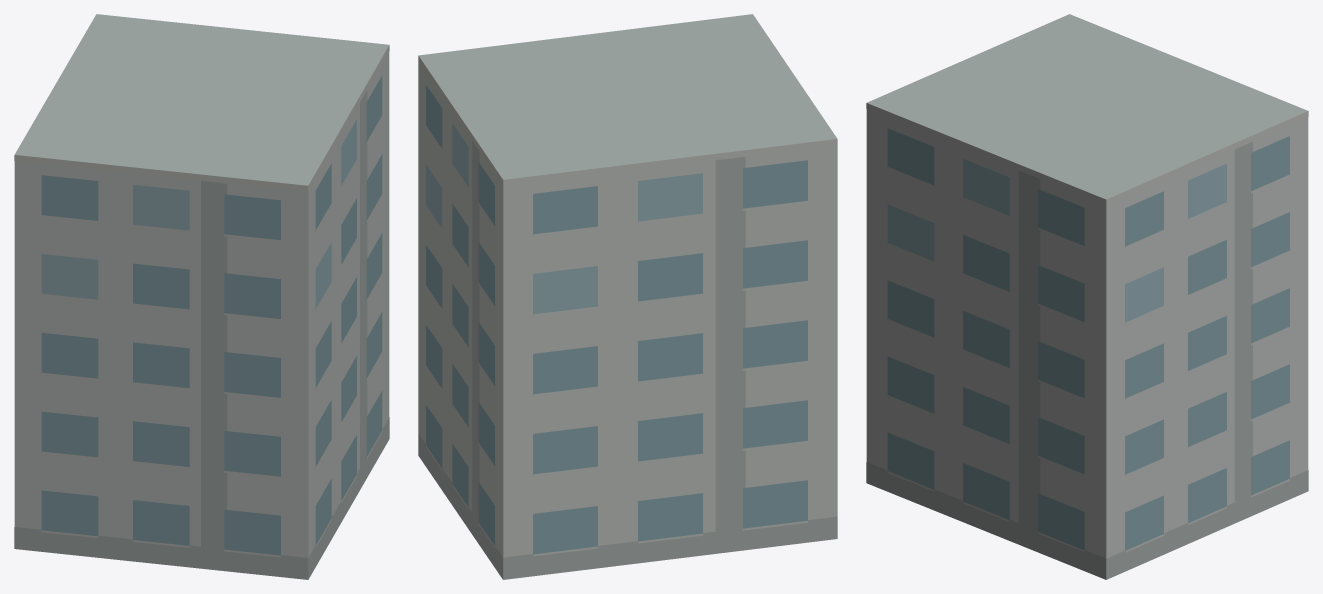
Rendered from survey-upis-32892495.glb.
3 renders of one model, left to right at view 1: azimuth 30°, elevation 25°; view 2: azimuth 150°, elevation 25°; view 3: azimuth 270°, elevation 25°, orthographic. The views are drawn at different scales.
Visible parts, largest first — view 1: survey-upis-32892495.tmp; view 2: survey-upis-32892495.tmp; view 3: survey-upis-32892495.tmp.
Boxes of the visible parts, x1=… form: survey-upis-32892495.tmp: x1=14, y1=14, x2=389, y2=579; survey-upis-32892495.tmp: x1=418, y1=14, x2=837, y2=579; survey-upis-32892495.tmp: x1=866, y1=14, x2=1308, y2=579.
Bounding box in the file's own units: 15.7 × 15 × 15.8.
